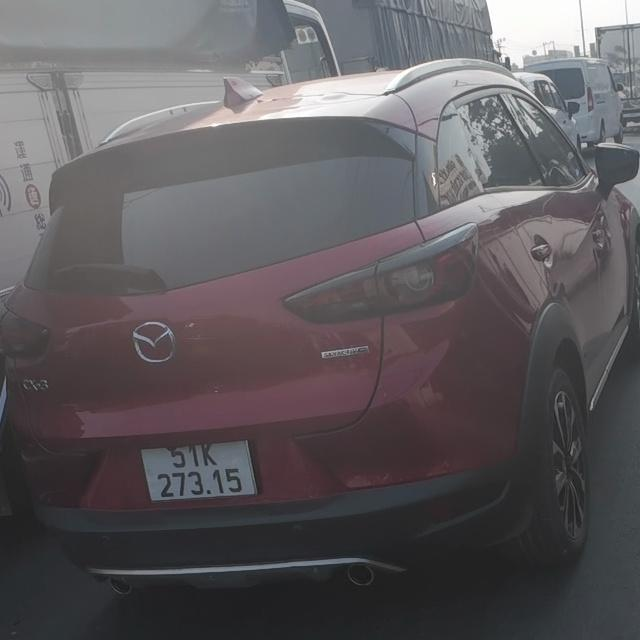car: (0, 60, 640, 611)
plate: (133, 430, 263, 506)
